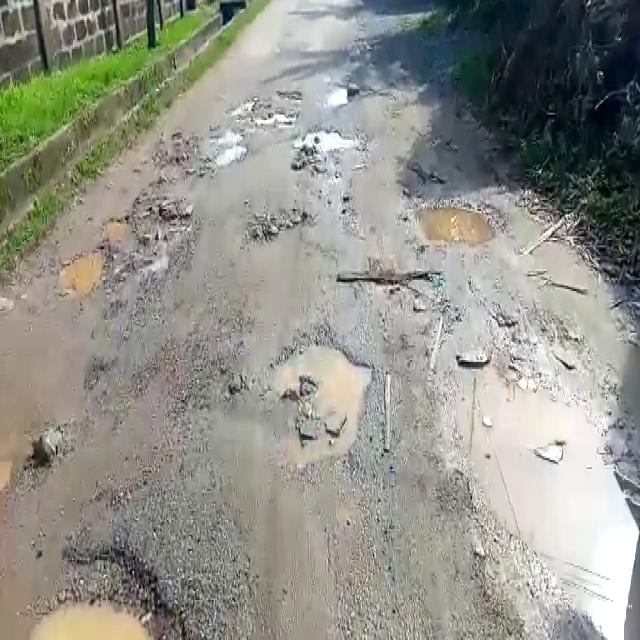Pothole: (449, 369, 640, 640), (8, 536, 196, 640), (271, 336, 380, 461), (416, 194, 504, 251), (343, 270, 456, 312), (105, 196, 193, 248), (288, 128, 366, 168), (55, 245, 107, 304), (249, 205, 312, 237), (228, 100, 296, 128), (203, 134, 250, 168)
